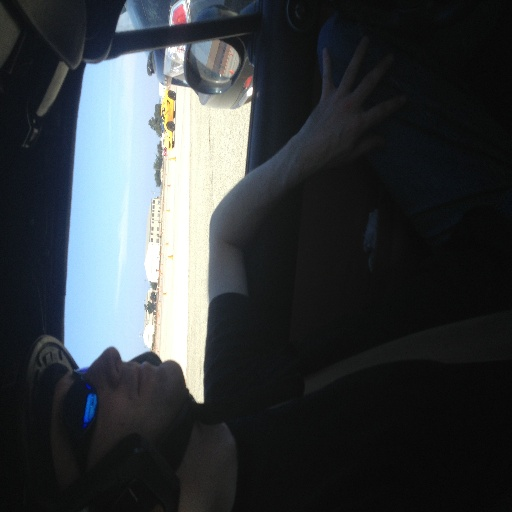hand: (297, 49, 407, 157)
